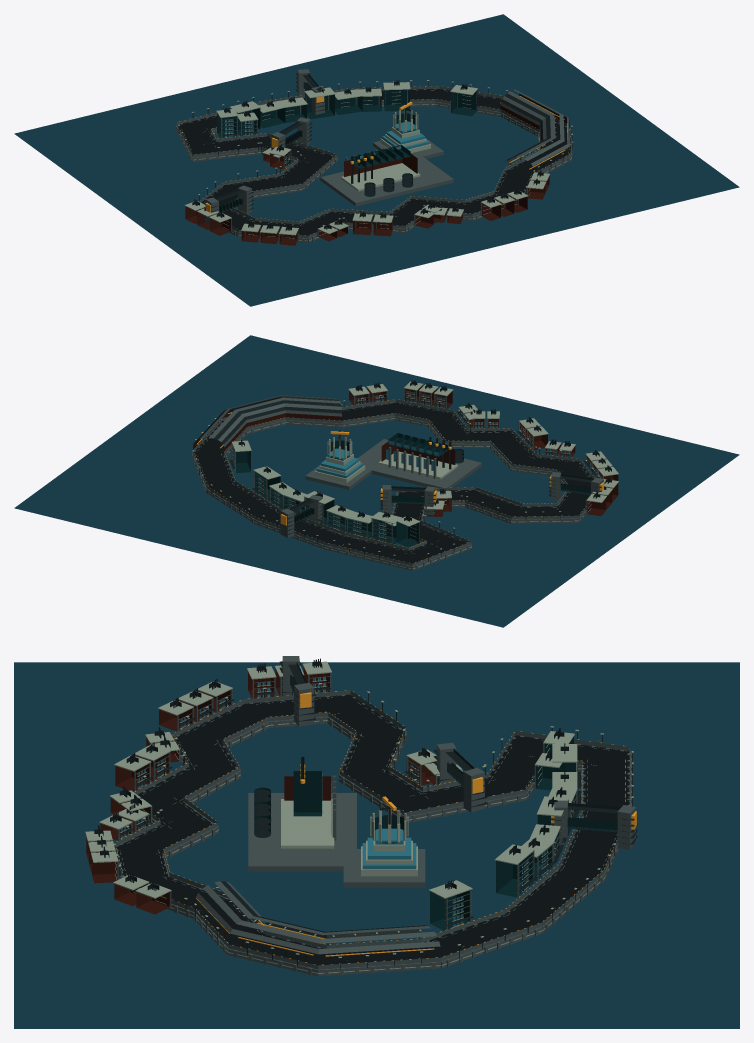
The model's file is stormglass-causeway.glb.
3 views of the same model, one above another, from view 1: azimuth 30°, elevation 25°; view 2: azimuth 150°, elevation 25°; view 3: azimuth 270°, elevation 25° (orthographic). The views are drawn at different scales.
Parts seen in each view (by area): view 1: batch-ocean, batch-concrete, batch-asphalt, batch-salt, batch-teal, batch-brick, batch-steel, batch-glass, batch-amber; view 2: batch-ocean, batch-concrete, batch-asphalt, batch-salt, batch-steel, batch-teal, batch-brick, batch-glass, batch-amber; view 3: batch-ocean, batch-concrete, batch-asphalt, batch-salt, batch-steel, batch-teal, batch-brick, batch-glass, batch-amber.
Boxes of the visible parts, bbox=[...] form: batch-ocean: bbox=[14, 14, 739, 306]; batch-concrete: bbox=[176, 69, 572, 242]; batch-asphalt: bbox=[179, 89, 570, 235]; batch-salt: bbox=[177, 80, 573, 241]; batch-teal: bbox=[217, 82, 477, 212]; batch-brick: bbox=[185, 95, 570, 245]; batch-steel: bbox=[178, 73, 572, 231]; batch-glass: bbox=[225, 119, 429, 166]; batch-amber: bbox=[177, 86, 570, 234]; batch-ocean: bbox=[14, 335, 739, 627]; batch-concrete: bbox=[192, 388, 603, 570]; batch-asphalt: bbox=[194, 402, 592, 563]; batch-salt: bbox=[192, 381, 618, 569]; batch-steel: bbox=[193, 380, 611, 562]; batch-teal: bbox=[232, 433, 590, 547]; batch-brick: bbox=[193, 385, 618, 516]; batch-glass: bbox=[234, 391, 601, 541]; batch-amber: bbox=[194, 400, 604, 562]; batch-ocean: bbox=[14, 662, 739, 1028]; batch-concrete: bbox=[110, 656, 635, 976]; batch-asphalt: bbox=[116, 694, 629, 965]; batch-salt: bbox=[85, 661, 633, 973]; batch-steel: bbox=[94, 658, 637, 969]; batch-teal: bbox=[254, 675, 617, 930]; batch-brick: bbox=[86, 667, 438, 914]; batch-glass: bbox=[120, 677, 573, 926]; batch-amber: bbox=[117, 691, 636, 965].
Bounding box in the file's own units: 520 × 54.3 × 435.
Materials: 9 (6 with a texture image).
